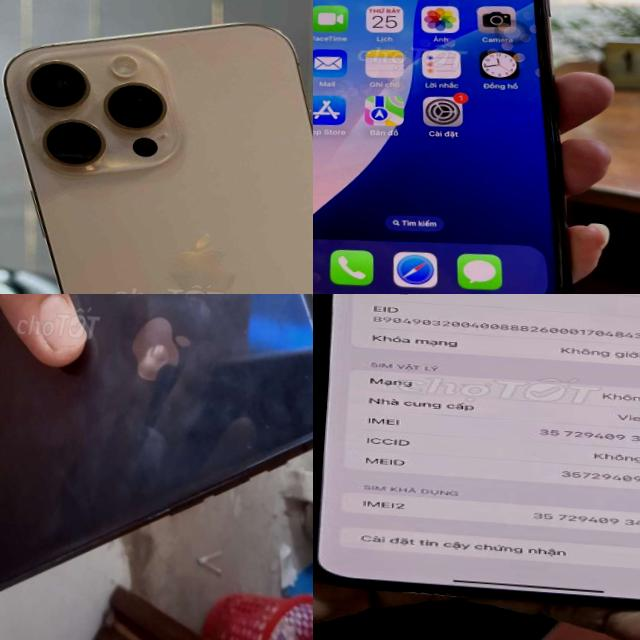gen_11: (313, 0, 603, 294)
gen_16: (3, 24, 313, 294)
gen_x_xs: (313, 294, 640, 630), (0, 294, 313, 590)
